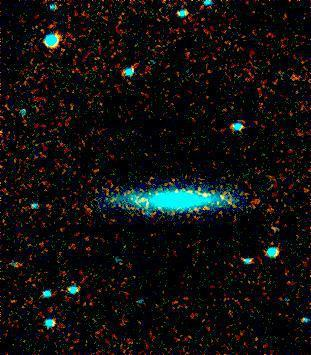star: (126, 185, 156, 215)
